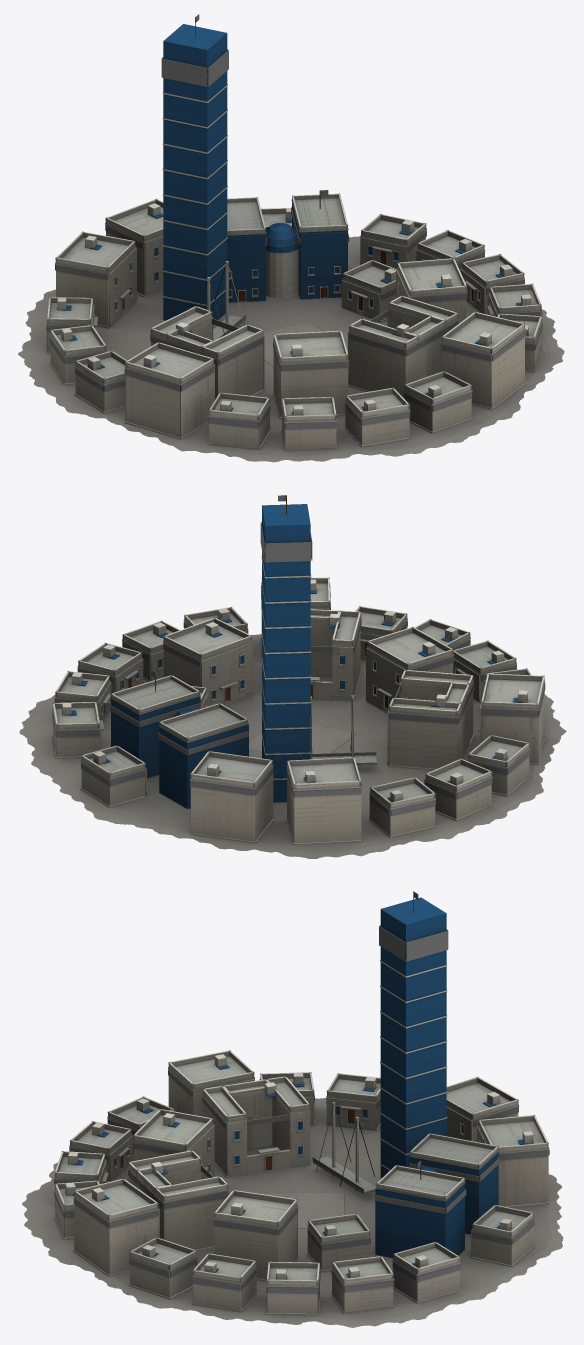
File: modern-town-big-b-indic-9883f4dd.glb
The picture shows the model from 3 angles, top to bottom: view 1: azimuth 30°, elevation 25°; view 2: azimuth 150°, elevation 25°; view 3: azimuth 270°, elevation 25°; orthographic projection.
Visible parts, largest first — view 1: LOD0; view 2: LOD0; view 3: LOD0.
Boxes of the visible parts, left/top/right/bottom form: LOD0: left=18, top=14, right=564, bottom=462; LOD0: left=19, top=495, right=566, bottom=858; LOD0: left=22, top=891, right=563, bottom=1327.
Size of what is drawn, in the model's own units: 7.98 by 4.73 by 7.94.
3 materials, 3 textured.
